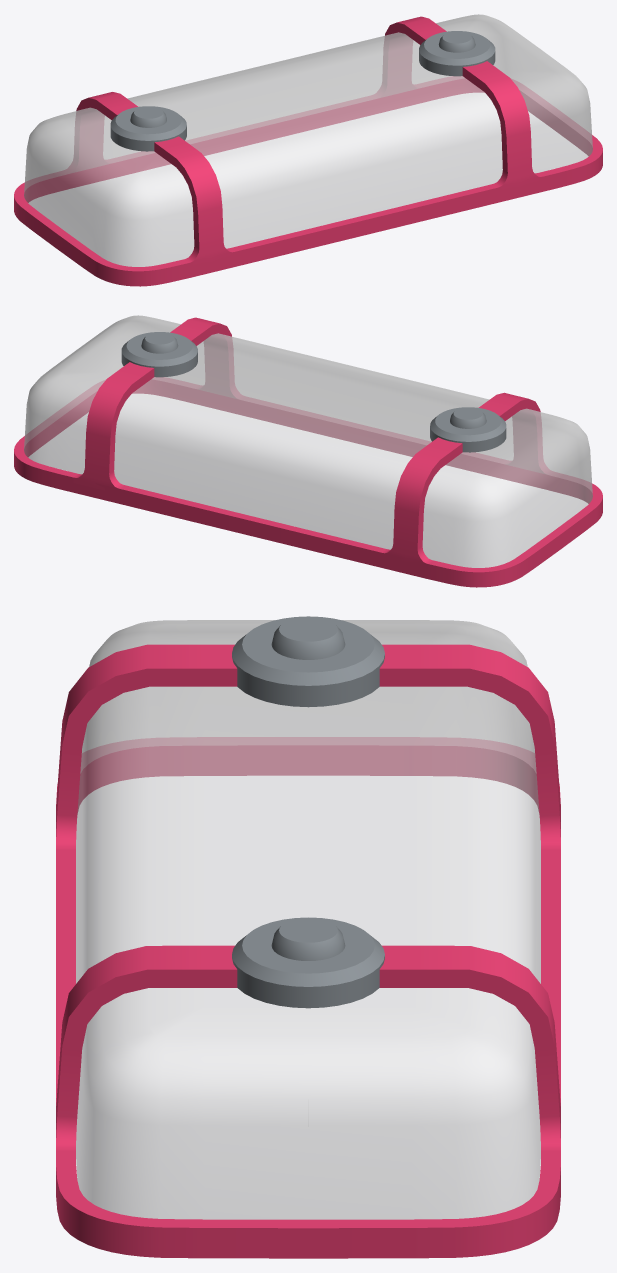
The model's file is hop_l_2_T2.fbx.
3 renders of one model, top to bottom at view 1: azimuth 30°, elevation 25°; view 2: azimuth 150°, elevation 25°; view 3: azimuth 270°, elevation 25°, orthographic. The views are drawn at different scales.
Parts seen in each view (by area): view 1: Cube.142, Cube.169, Cylinder.189, Cylinder.184; view 2: Cube.142, Cube.169, Cylinder.189, Cylinder.184; view 3: Cube.142, Cube.169, Cylinder.184, Cylinder.189.
Boxes of the visible parts, x1=… form: Cube.142: x1=24, y1=14, x2=592, y2=266; Cube.169: x1=14, y1=16, x2=602, y2=286; Cylinder.189: x1=110, y1=106, x2=186, y2=151; Cylinder.184: x1=419, y1=31, x2=495, y2=76; Cube.142: x1=24, y1=315, x2=592, y2=567; Cube.169: x1=14, y1=317, x2=602, y2=587; Cylinder.189: x1=430, y1=407, x2=506, y2=452; Cylinder.184: x1=121, y1=332, x2=197, y2=377; Cube.142: x1=76, y1=620, x2=540, y2=1219; Cube.169: x1=56, y1=644, x2=560, y2=1258; Cylinder.184: x1=232, y1=917, x2=384, y2=1008; Cylinder.189: x1=232, y1=616, x2=384, y2=707.
Size of the model in its own units: 347 by 75 by 151.
